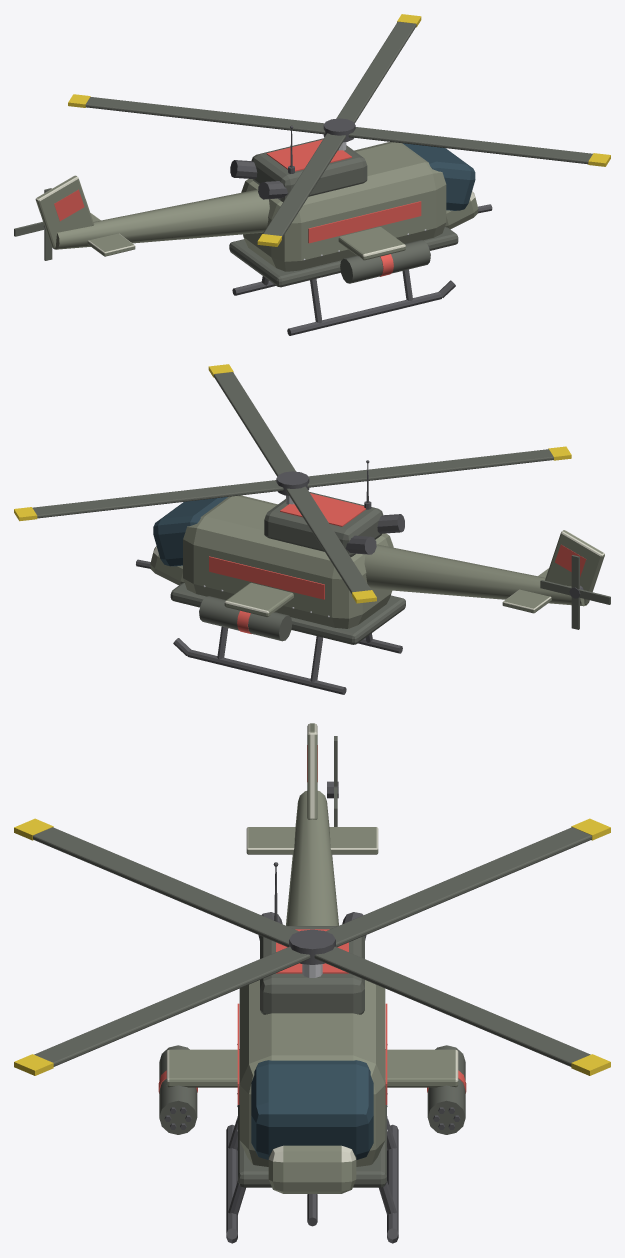
Rendered from gunship_red.glb.
3 views of the same model, one above another, from view 1: azimuth 30°, elevation 25°; view 2: azimuth 150°, elevation 25°; view 3: azimuth 270°, elevation 25° (orthographic). The views are drawn at different scales.
Parts seen in each view (by area): view 1: Body, Rotor, TailRotor; view 2: Body, Rotor, TailRotor; view 3: Body, Rotor.
Part boxes in pixels (x1,y1,x2,y2): Body: [35, 125, 492, 335]; Rotor: [68, 14, 610, 246]; TailRotor: [14, 188, 52, 260]; Body: [136, 460, 604, 694]; Rotor: [14, 364, 571, 603]; TailRotor: [540, 555, 610, 629]; Body: [158, 723, 466, 1243]; Rotor: [14, 818, 610, 1075].
Size of the model in its own units: 5.72 by 2.16 by 4.09.
Materials: 1 (1 with a texture image).
